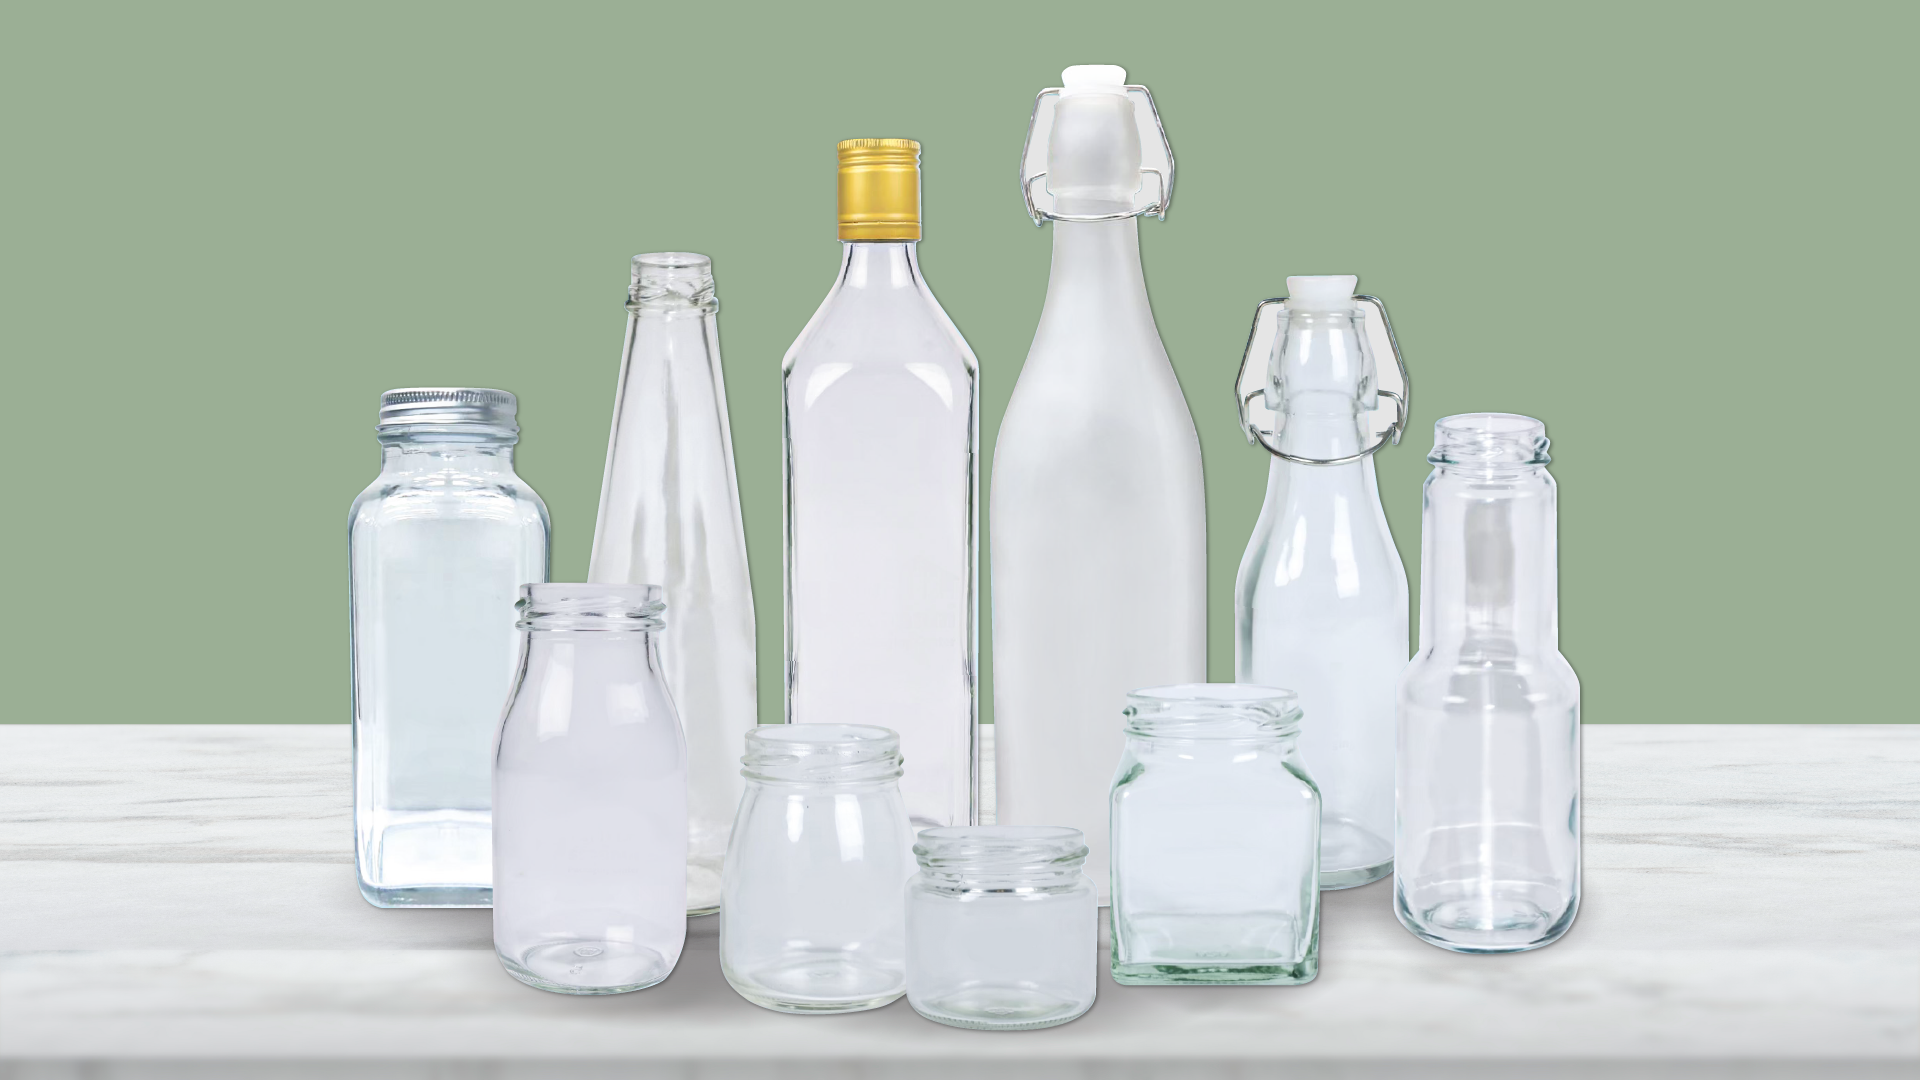glass_bottle: (332, 50, 1611, 1033)
